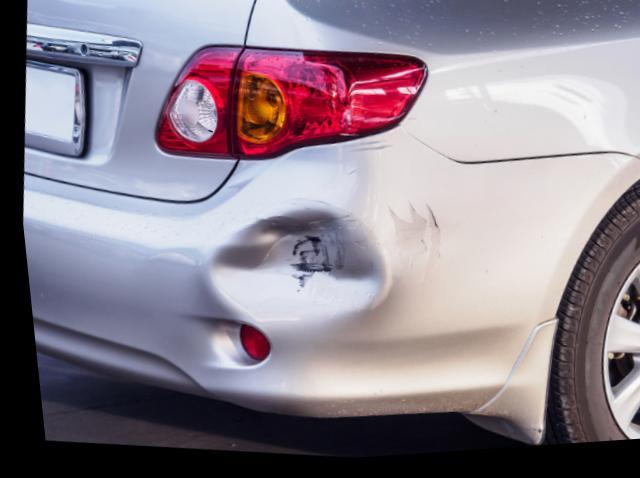dent: (205, 216, 378, 328)
scratch: (382, 203, 434, 287)
